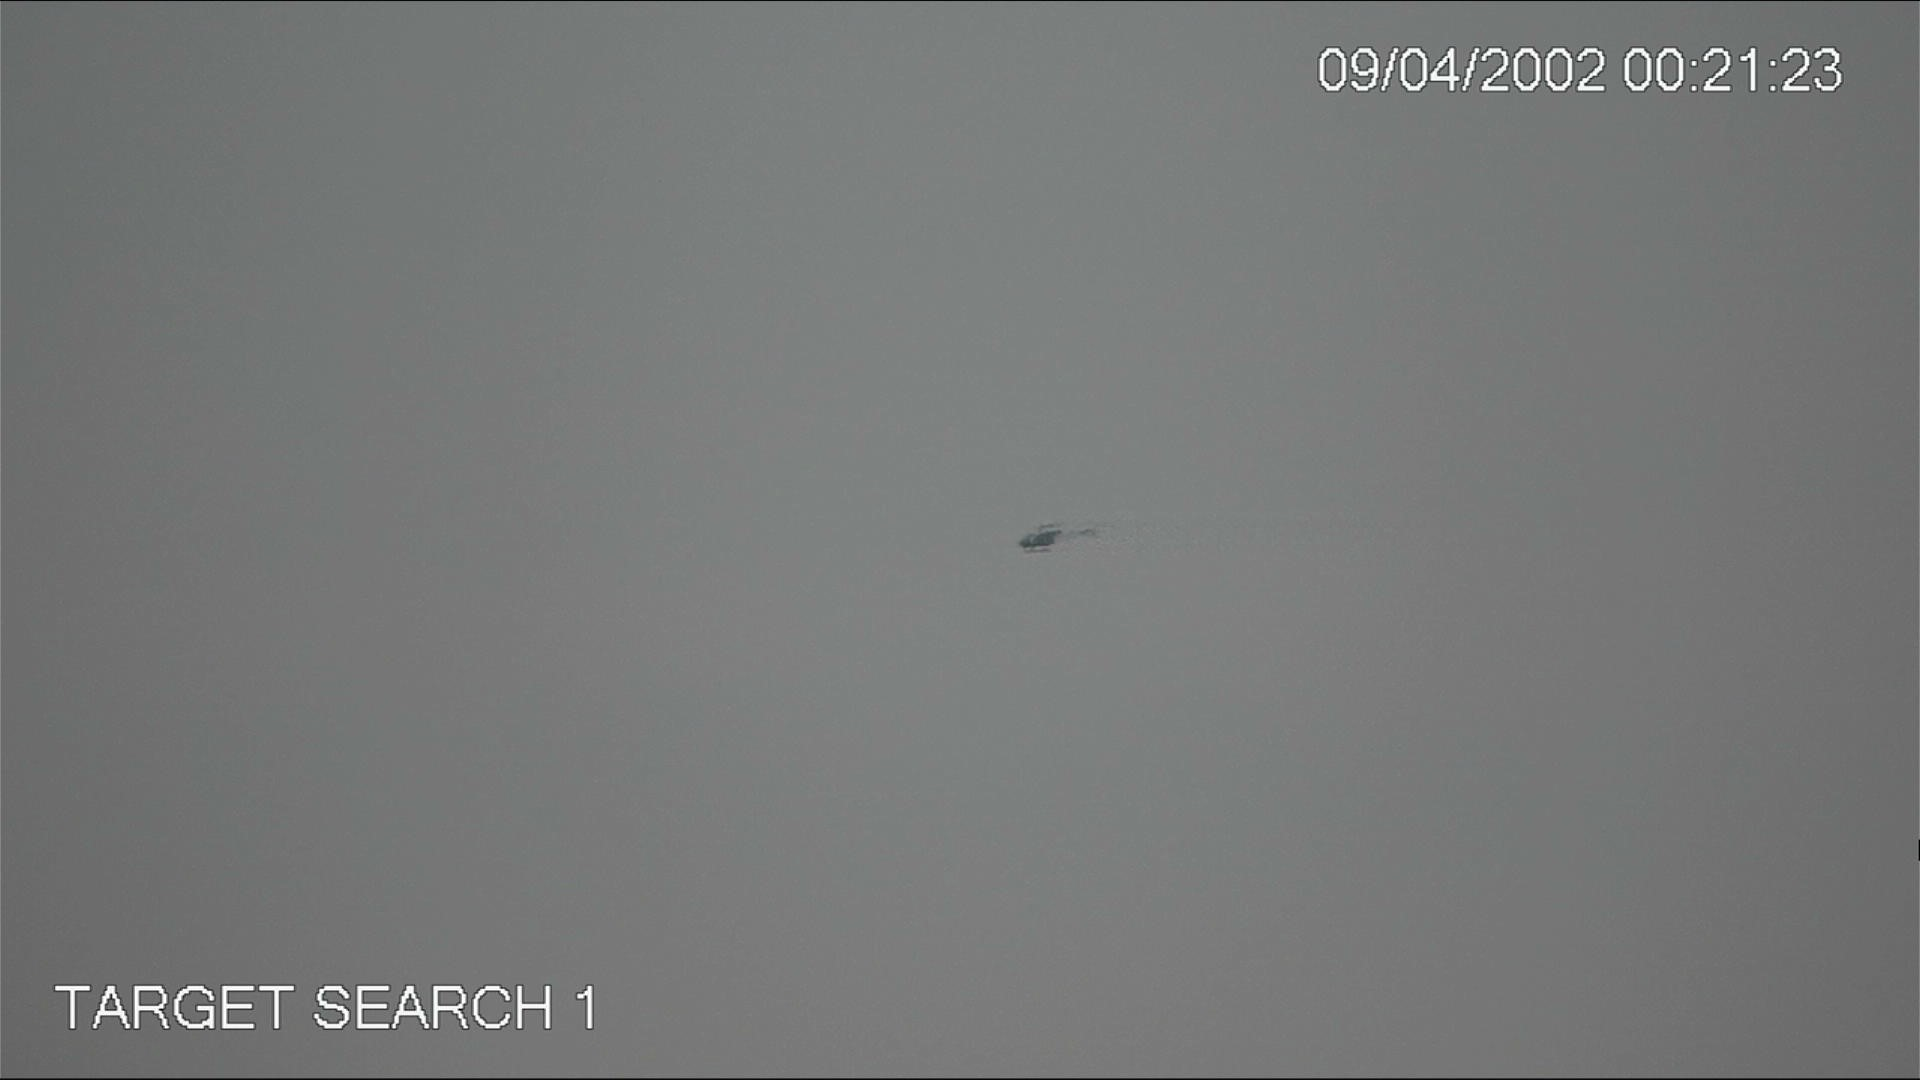SU_30: (1021, 527, 1063, 554)
